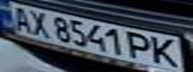1: (103, 26, 127, 55)
4: (84, 22, 106, 52)
5: (66, 18, 90, 47)
8: (48, 15, 72, 43)
A: (6, 3, 36, 34)
K: (148, 35, 184, 70)
P: (124, 30, 154, 61)
X: (24, 9, 54, 38)
